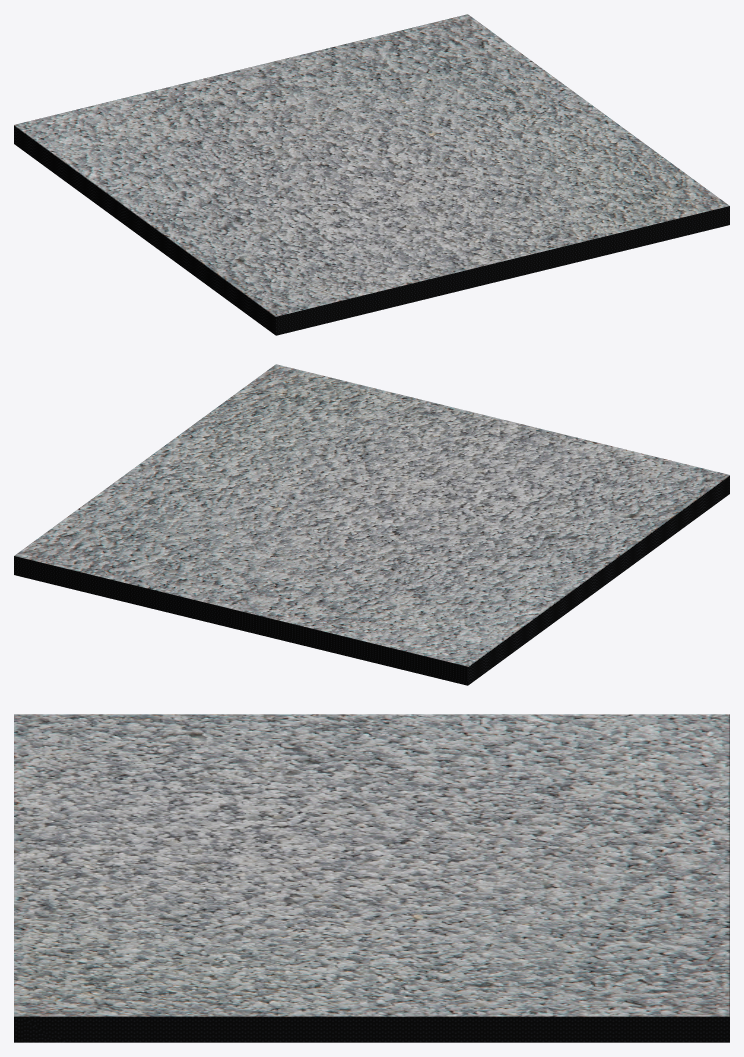
The model's file is rooffloor.fbx.
The picture shows the model from 3 angles, top to bottom: view 1: azimuth 30°, elevation 25°; view 2: azimuth 150°, elevation 25°; view 3: azimuth 270°, elevation 25°; orthographic projection. The views are drawn at different scales.
Visible parts, largest first — view 1: rooffloor; view 2: rooffloor; view 3: rooffloor.
Part boxes in pixels (x1,y1,x2,y2): rooffloor: [14, 14, 729, 335]; rooffloor: [14, 364, 729, 685]; rooffloor: [14, 714, 729, 1042].
Size of the model in its own units: 2.5 by 0.1 by 2.5.
1 material, 1 textured.
